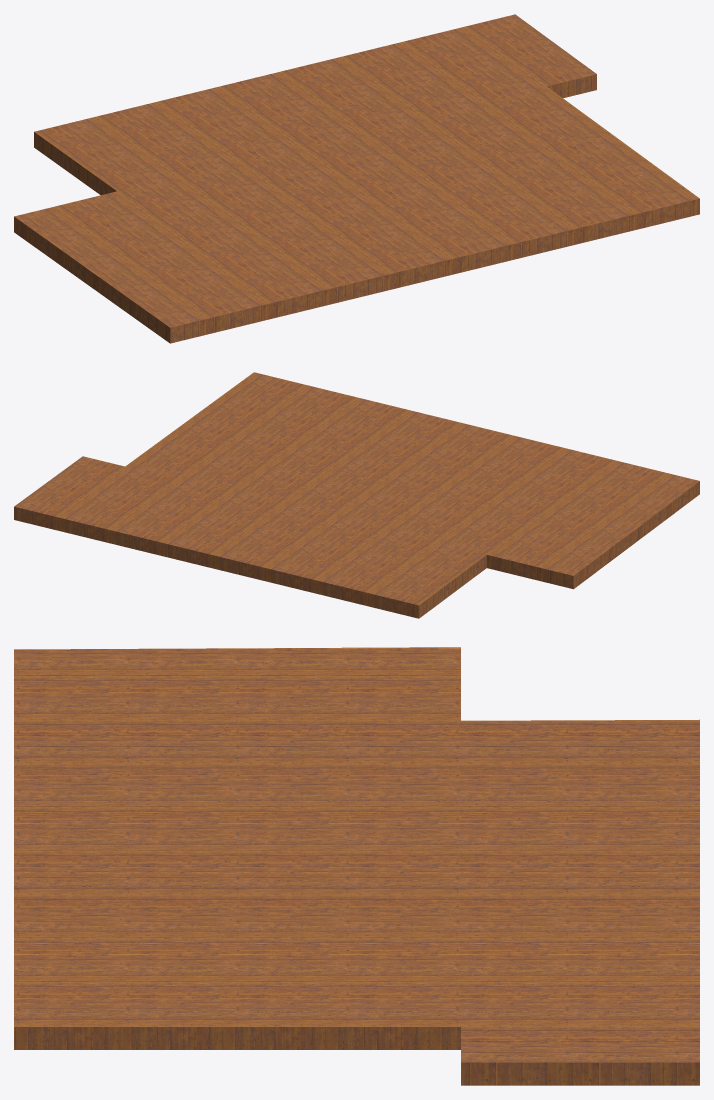
Rendered from 2ndfloor.obj.
The picture shows the model from 3 angles, top to bottom: view 1: azimuth 30°, elevation 25°; view 2: azimuth 150°, elevation 25°; view 3: azimuth 270°, elevation 25°; orthographic projection. The views are drawn at different scales.
Parts seen in each view (by area): view 1: 2ndfloor; view 2: 2ndfloor; view 3: 2ndfloor.
Boxes of the visible parts, x1,y1,x2,y2 form: 2ndfloor: (14, 14, 699, 343); 2ndfloor: (14, 372, 699, 618); 2ndfloor: (14, 647, 699, 1085).
Size of the model in its own units: 11.58 by 0.3 by 8.08.
1 material, 1 textured.
